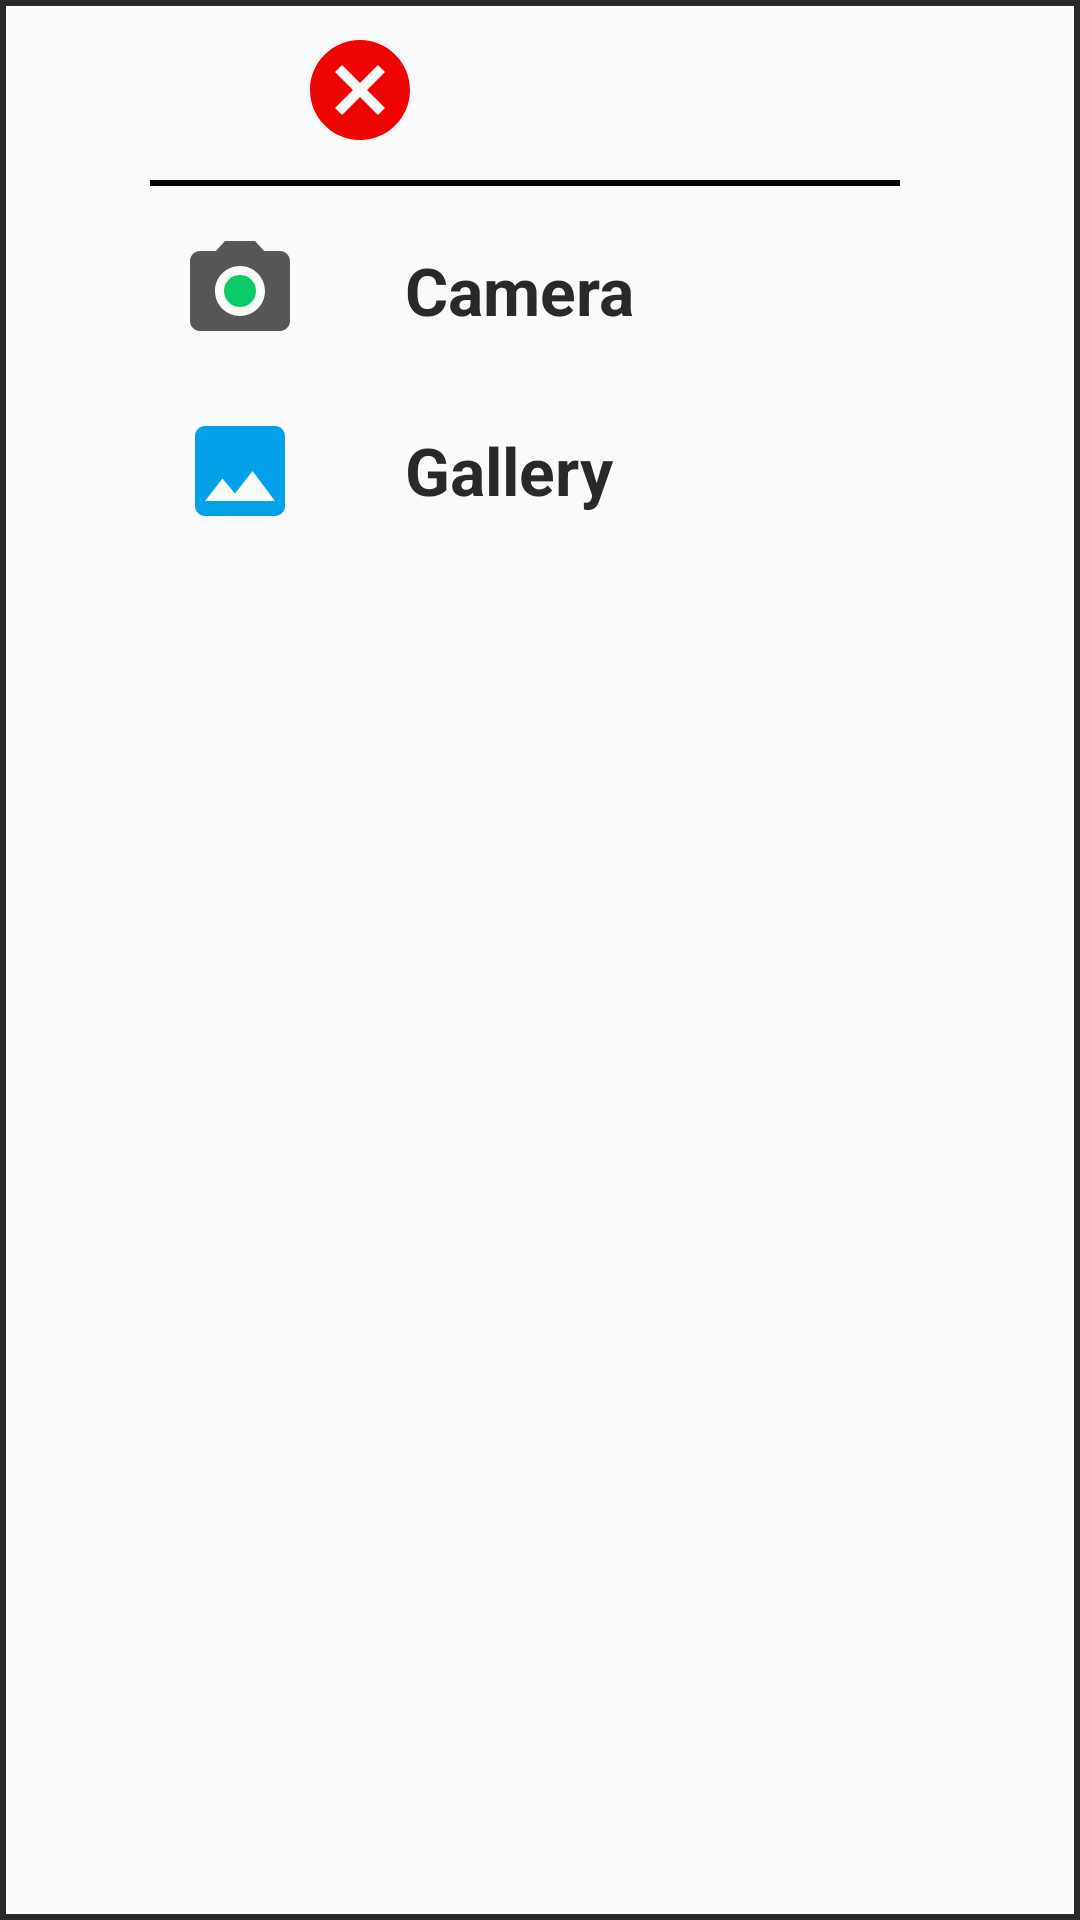

Locate icon controls on the screen. Image size 1080x1920, boxes as bbox=[x1, y1, x2, y2].
cancel: bbox=[310, 40, 410, 140]
